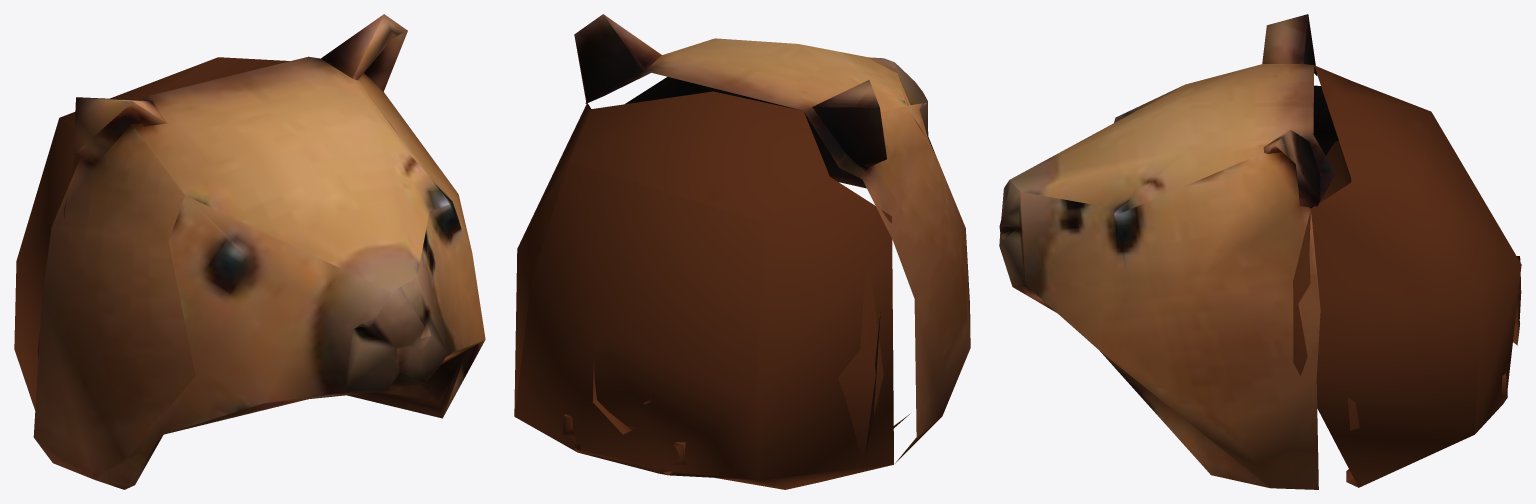
The model's file is capybara.glb.
3 renders of one model, left to right at view 1: azimuth 30°, elevation 25°; view 2: azimuth 150°, elevation 25°; view 3: azimuth 270°, elevation 25°, orthographic. The views are drawn at different scales.
Parts seen in each view (by area): view 1: geometry_0; view 2: geometry_0; view 3: geometry_0.
Boxes of the visible parts, x1,y1,x2,y2 form: geometry_0: (14,14,485,489); geometry_0: (514,14,970,489); geometry_0: (999,14,1521,489).
Size of the model in its own units: 0.4171 by 0.404 by 0.5316.
Materials: 2 (1 with a texture image).
